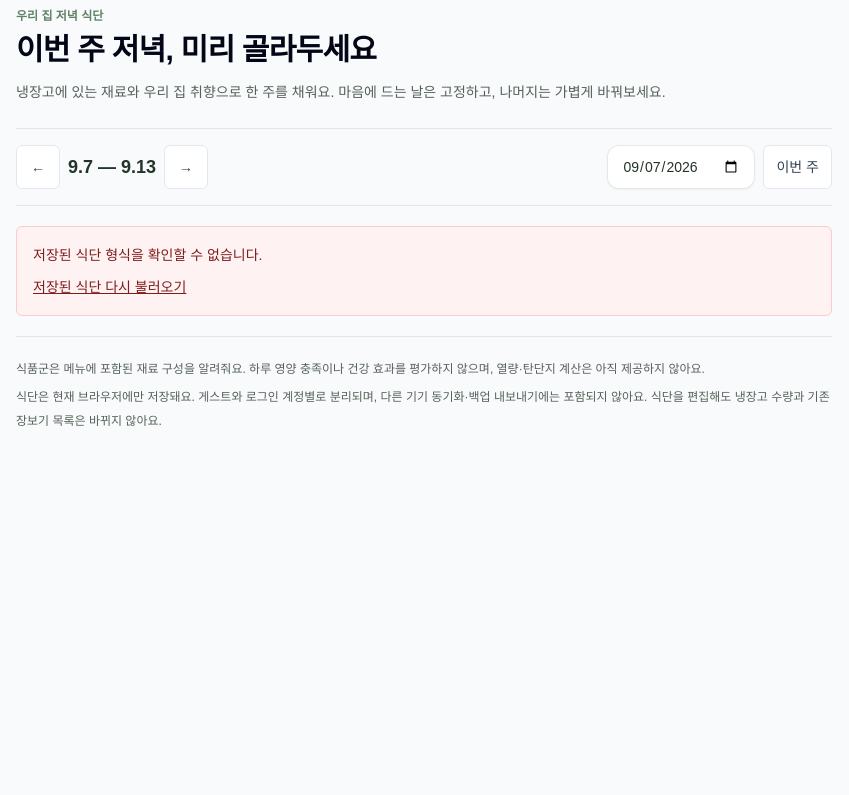
Test: MealPlanPage storage integration › blocks generation on a failed read and unlocks it only after successful retry
This screenshot has width=849, height=795.
Check: the message "저장된 식단 형식을 확인할 수 없습니다. 저장된 식단 다시 불러오기" is shown, box [16, 226, 832, 316]
Check: the button "한 주 식단 만들기" is not shown
What coordinates should you click on to do the following:
click the button "저장된 식단 다시 불러오기"
I would click on:
 (110, 287)
Its box is [33, 275, 186, 299].
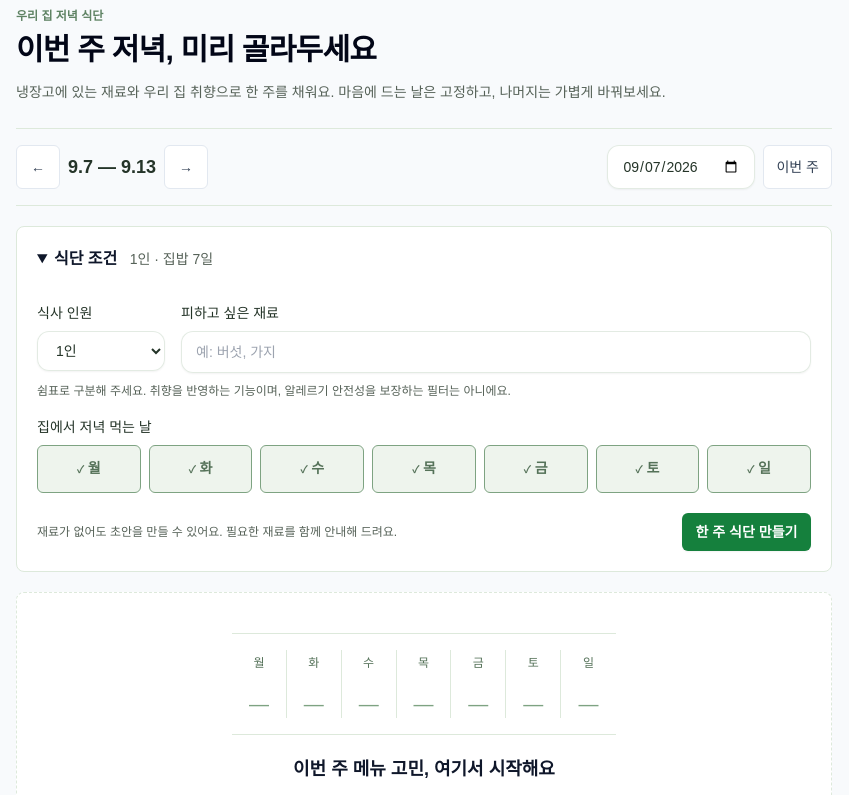
Check: the button "한 주 식단 만들기" is shown, box [682, 513, 811, 551]
Check: the message "저장된 식단 형식을 확인할 수 없습니다. 저장된 식단 다시 불러오기" is gone
